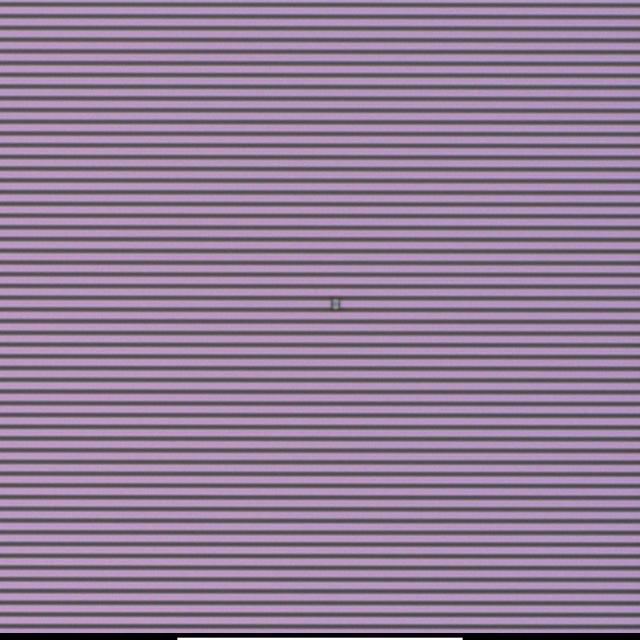03_intrusion: (327, 297, 344, 314)
